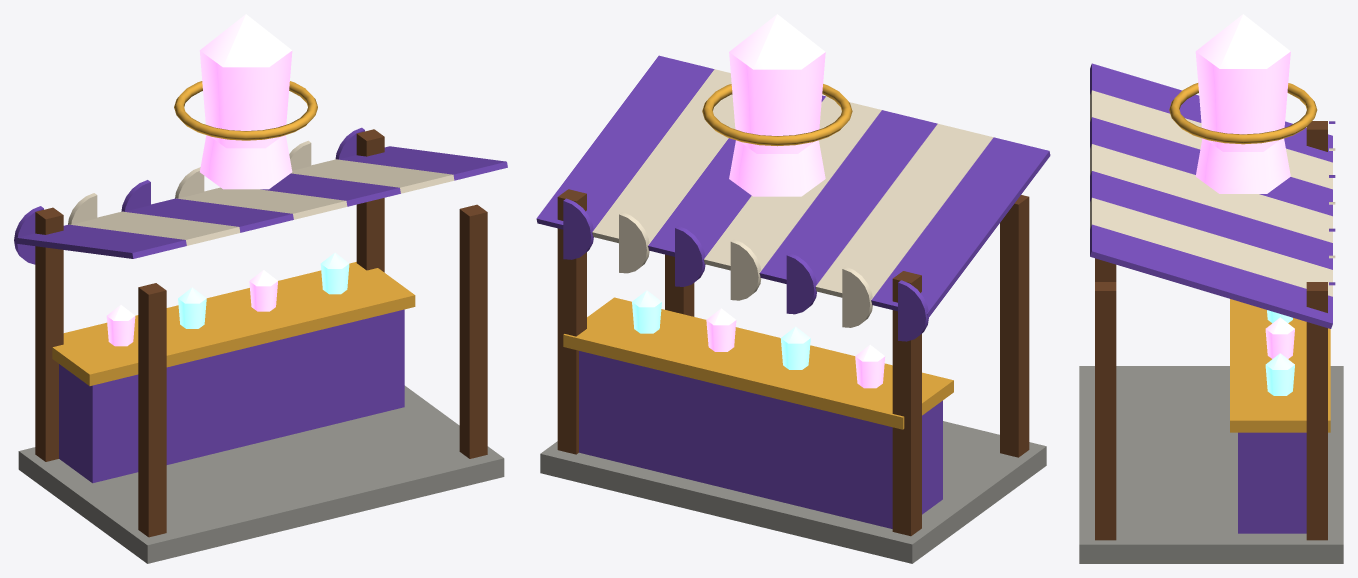
The model's file is GemShop.glb.
The picture shows the model from 3 angles, left to right: view 1: azimuth 30°, elevation 25°; view 2: azimuth 150°, elevation 25°; view 3: azimuth 270°, elevation 25°; orthographic projection. The views are drawn at different scales.
Parts seen in each view (by area): view 1: Body, HoverGem, HoverRing, Glow, GlowCore; view 2: Body, HoverGem, HoverRing, Glow, GlowCore; view 3: Body, HoverGem, HoverRing, GlowCore, Glow.
Part boxes in pixels (box(x1,y1,x2,y2)): Body: box(14, 127, 507, 563); HoverGem: box(199, 14, 292, 189); HoverRing: box(174, 81, 317, 140); Glow: box(106, 270, 277, 346); GlowCore: box(178, 252, 349, 328); Body: box(536, 55, 1050, 563); HoverGem: box(729, 14, 825, 196); HoverRing: box(702, 84, 852, 146); Glow: box(706, 308, 885, 388); GlowCore: box(632, 290, 810, 369); Body: box(1079, 63, 1343, 563); HoverGem: box(1195, 14, 1290, 193); HoverRing: box(1169, 83, 1317, 144); GlowCore: box(1265, 310, 1294, 395); Glow: box(1265, 317, 1294, 358).
Size of the model in its own units: 8.4 by 9.6 by 5.
Materials: 5 (2 with a texture image).
